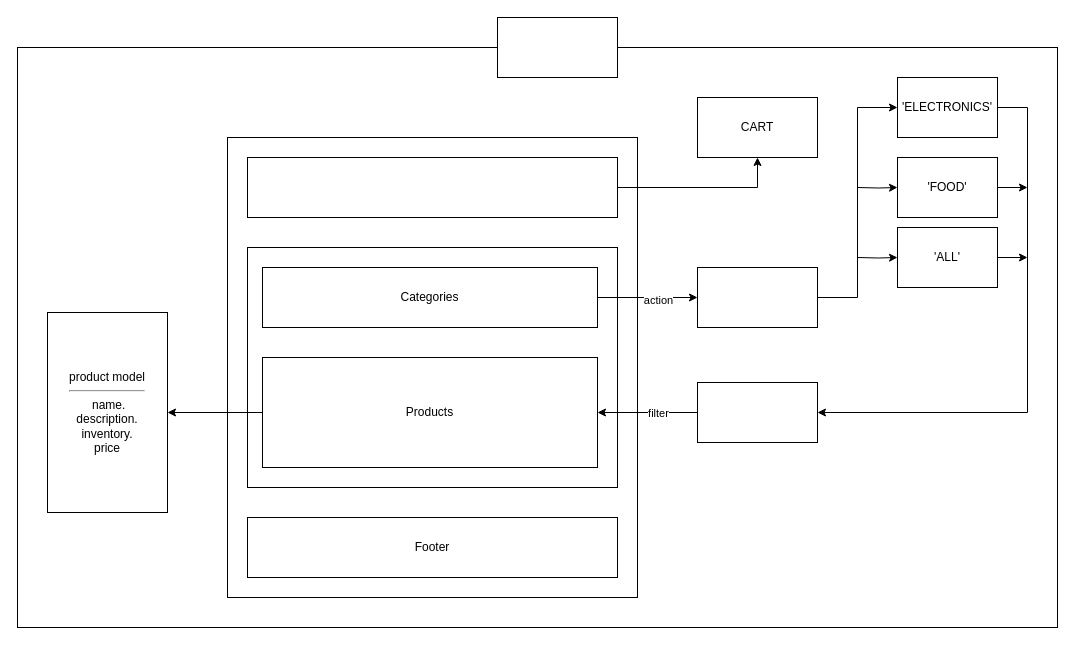
This 1075x645 diagram has some shape labels left out. The centre of each missing label's shape, as x and y in pixels:
Header: the point at 432,187
new Active: the point at 757,412
SetActiveCategory: the point at 757,297
Store Front: the point at 557,47
